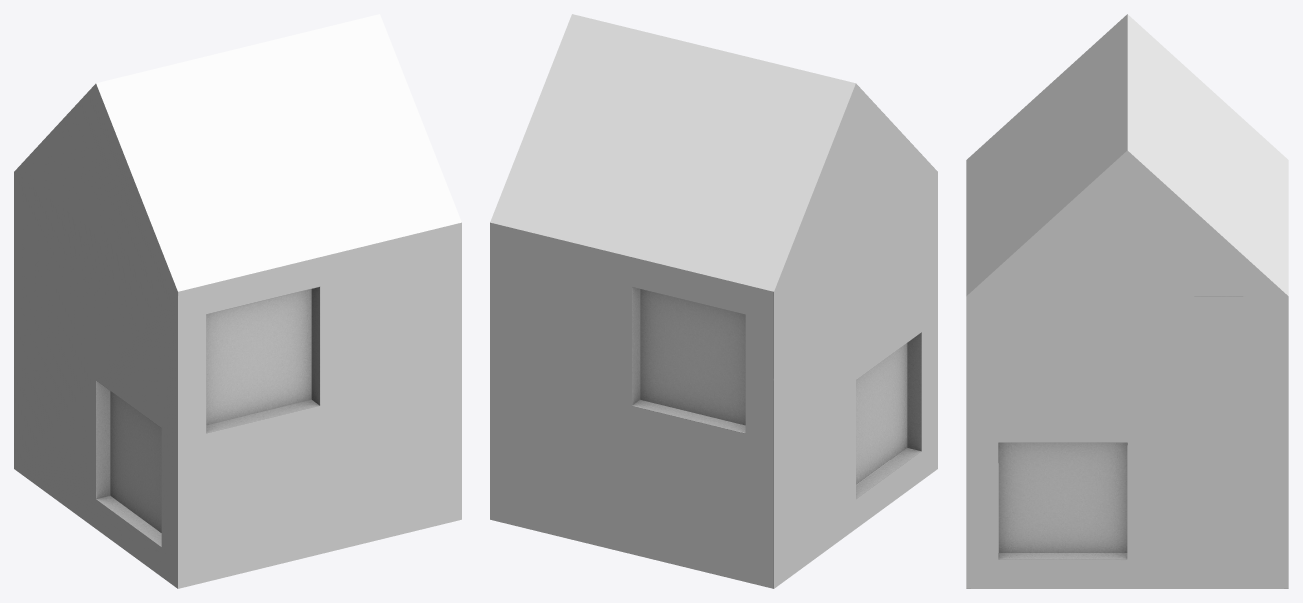
The model's file is house.fbx.
3 views of the same model, side by side, from view 1: azimuth 30°, elevation 25°; view 2: azimuth 150°, elevation 25°; view 3: azimuth 270°, elevation 25° (orthographic).
Visible parts, largest first — view 1: Cube; view 2: Cube; view 3: Cube.
Boxes of the visible parts, bbox=[...] form: Cube: bbox=[14, 14, 461, 588]; Cube: bbox=[490, 14, 937, 588]; Cube: bbox=[966, 14, 1288, 588].
Bounding box in the file's own units: 200 × 300 × 200.
Materials: 1 (1 with a texture image).
